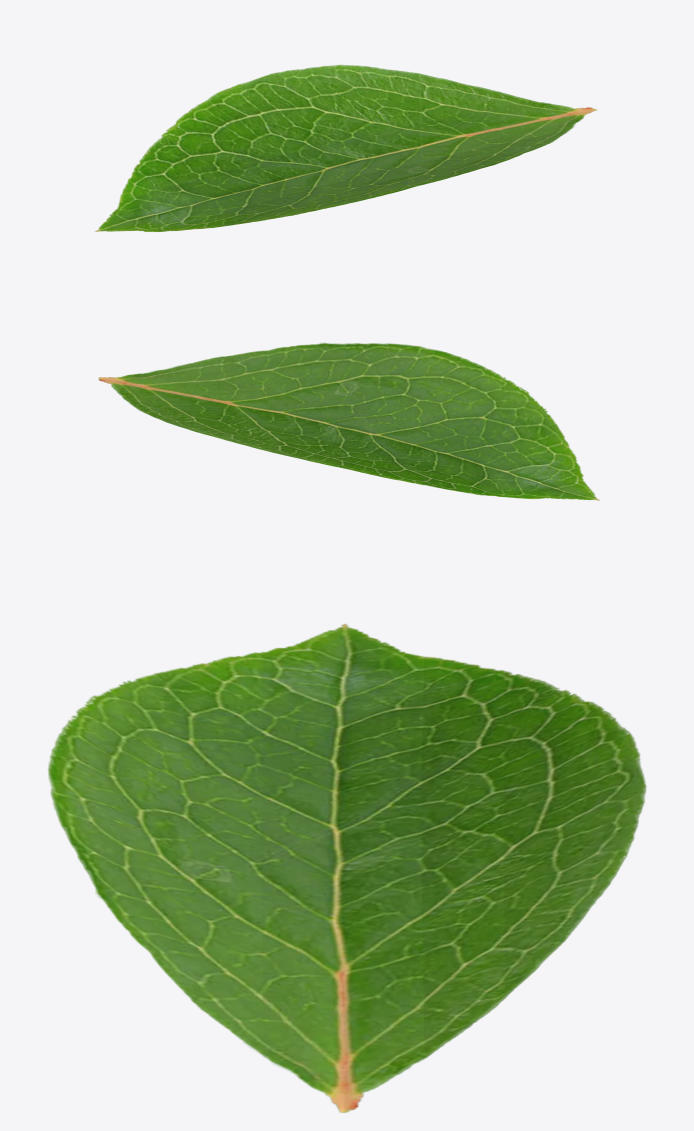
Rendered from leaves.glb.
The picture shows the model from 3 angles, top to bottom: view 1: azimuth 30°, elevation 25°; view 2: azimuth 150°, elevation 25°; view 3: azimuth 270°, elevation 25°; orthographic projection. The views are drawn at different scales.
Visible parts, largest first — view 1: leaf.006; view 2: leaf.006; view 3: leaf.006.
Boxes of the visible parts, x1,y1,x2,y2 form: leaf.006: (95,64,597,231); leaf.006: (98,342,599,500); leaf.006: (48,624,646,1112).
Size of the model in its own units: 0.0286 by 0.00243 by 0.0157.
1 material, 1 textured.
